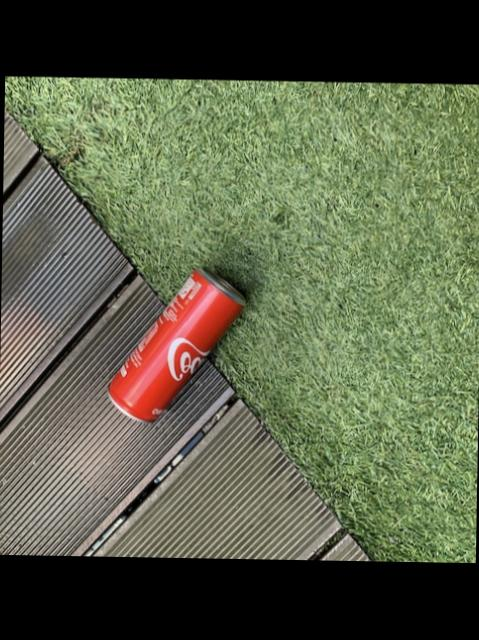metal: (107, 270, 243, 421)
